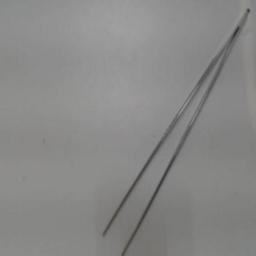DeBakey Dissector: (92, 4, 252, 254)
